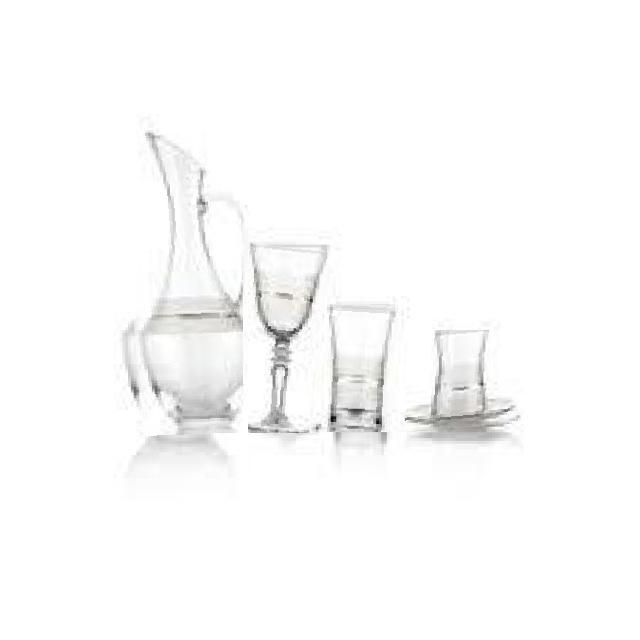Glass: (118, 130, 243, 436), (248, 244, 328, 434), (405, 330, 522, 433), (327, 302, 397, 432)
